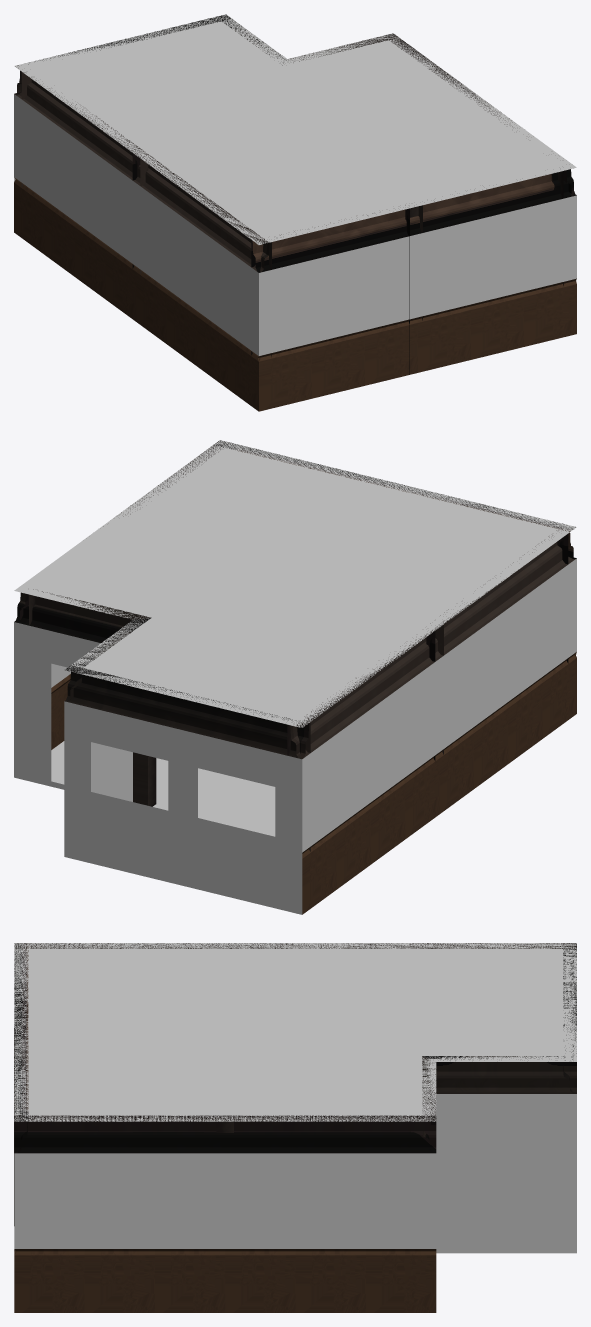
3 views of the same model, one above another, from view 1: azimuth 30°, elevation 25°; view 2: azimuth 150°, elevation 25°; view 3: azimuth 270°, elevation 25° (orthographic). The views are drawn at different scales.
Parts seen in each view (by area): view 1: Ground; view 2: Ground; view 3: Ground.
Part boxes in pixels (x1,y1,x2,y2): Ground: (14, 14, 576, 411); Ground: (14, 440, 576, 914); Ground: (14, 943, 576, 1312).
Size of the model in its own units: 600 by 300 by 800.
